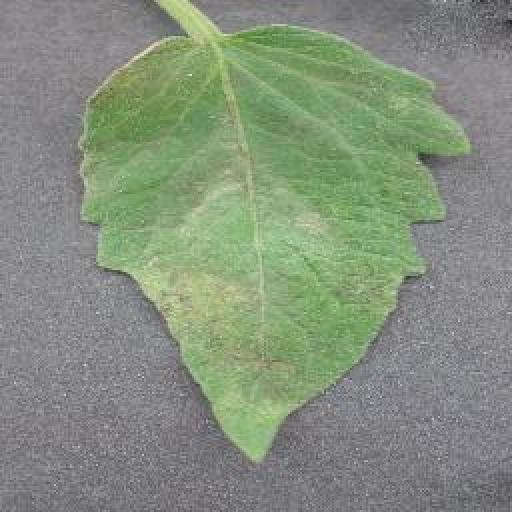disease_tomato: (76, 22, 474, 462)
